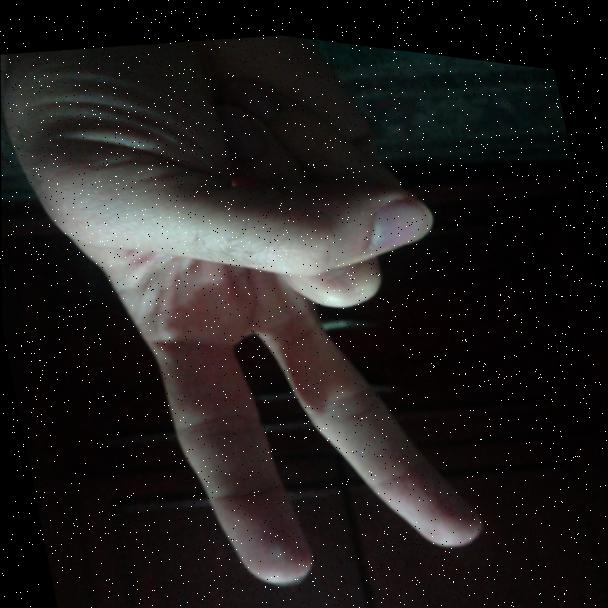two: (1, 0, 520, 608)
